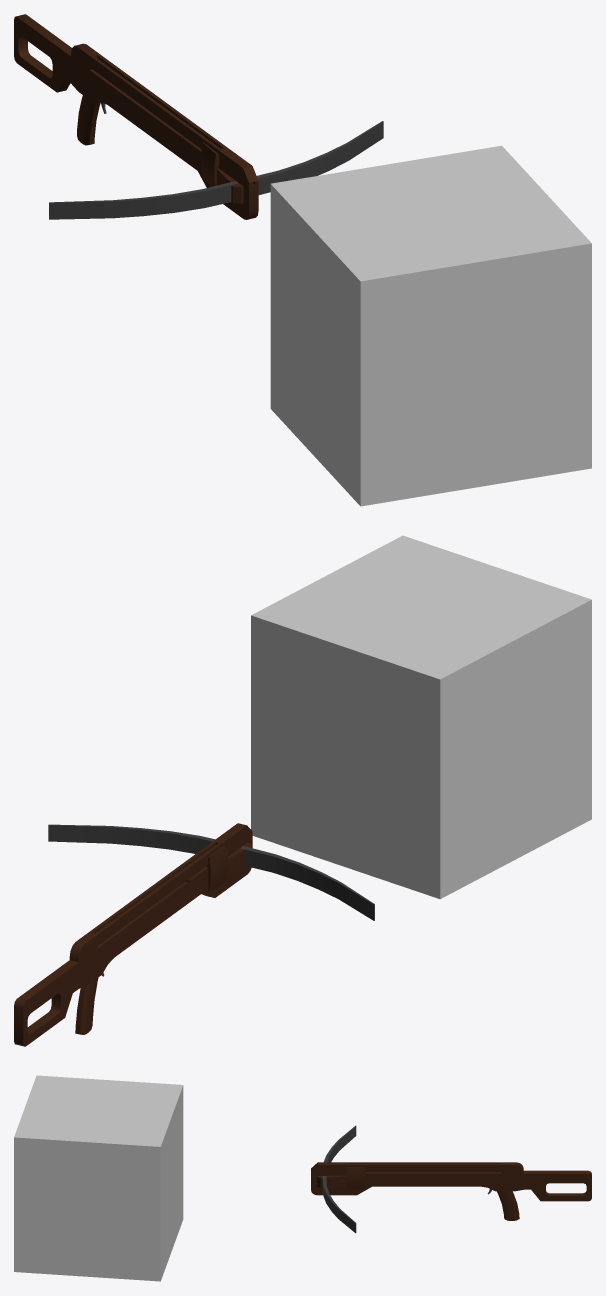
File: arrowKit.obj
3 views of the same model, one above another, from view 1: azimuth 30°, elevation 25°; view 2: azimuth 150°, elevation 25°; view 3: azimuth 270°, elevation 25° (orthographic). The views are drawn at different scales.
Parts seen in each view (by area): view 1: Cube.009, Cube_Cube.001, Cube.004, Cube.006, Cube.001_Cube.002; view 2: Cube.009, Cube_Cube.001, Cube.004, Cube.006, Cube.001_Cube.002, Cube.008; view 3: Cube.009, Cube_Cube.001, Cube.006, Cube.004, Cube.001_Cube.002, Cube.008.
Boxes of the visible parts, x1,y1,x2,y2 form: Cube.009: [270, 145, 591, 506]; Cube_Cube.001: [14, 14, 258, 219]; Cube.004: [49, 121, 383, 219]; Cube.006: [71, 43, 258, 186]; Cube.001_Cube.002: [77, 95, 100, 145]; Cube.009: [251, 535, 591, 899]; Cube_Cube.001: [14, 835, 252, 1046]; Cube.004: [48, 824, 374, 920]; Cube.006: [69, 823, 252, 962]; Cube.001_Cube.002: [75, 977, 98, 1034]; Cube.008: [206, 846, 228, 892]; Cube.009: [14, 1075, 183, 1281]; Cube_Cube.001: [311, 1170, 591, 1201]; Cube.006: [311, 1162, 523, 1173]; Cube.004: [322, 1125, 356, 1233]; Cube.001_Cube.002: [497, 1191, 519, 1220]; Cube.008: [346, 1167, 365, 1189].
Size of the model in its own units: 3.11 by 2 by 7.79.
